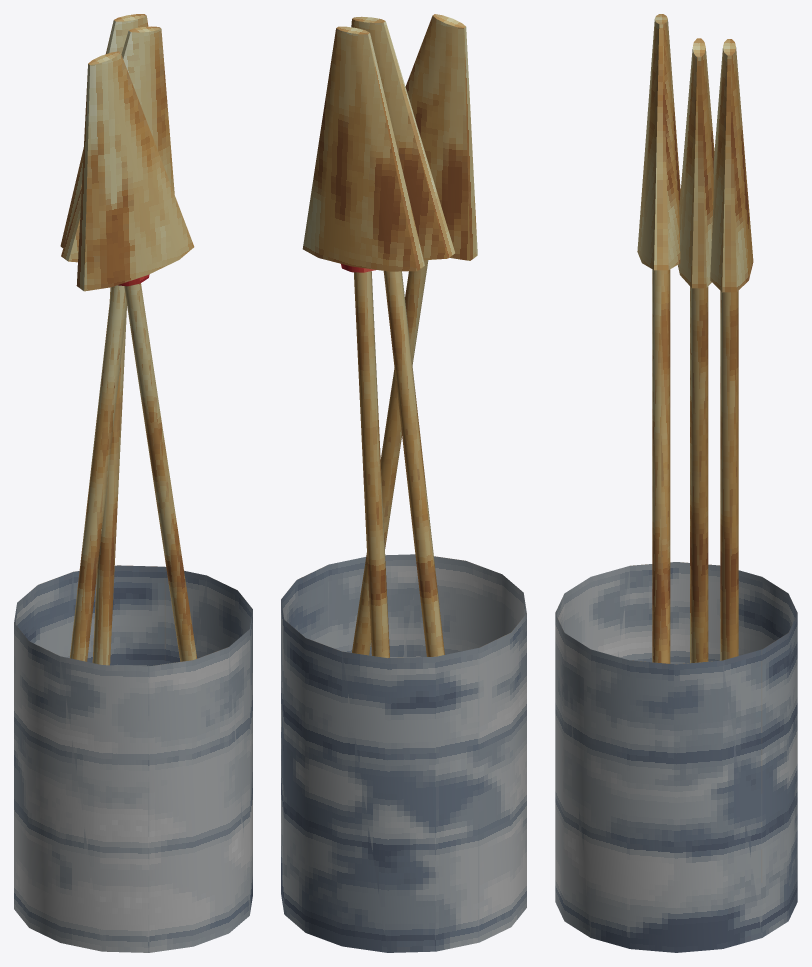
File: broombin_own.glb
3 views of the same model, side by side, from view 1: azimuth 30°, elevation 25°; view 2: azimuth 150°, elevation 25°; view 3: azimuth 270°, elevation 25° (orthographic). The views are drawn at different scales.
Visible parts, largest first — view 1: mesh; view 2: mesh; view 3: mesh.
Part boxes in pixels (<box>): mesh: <box>14,14,252,952</box>; mesh: <box>281,14,526,952</box>; mesh: <box>555,14,797,952</box>.
Size of the model in its own units: 0.317 by 1.25 by 0.317.
1 material, 1 textured.
